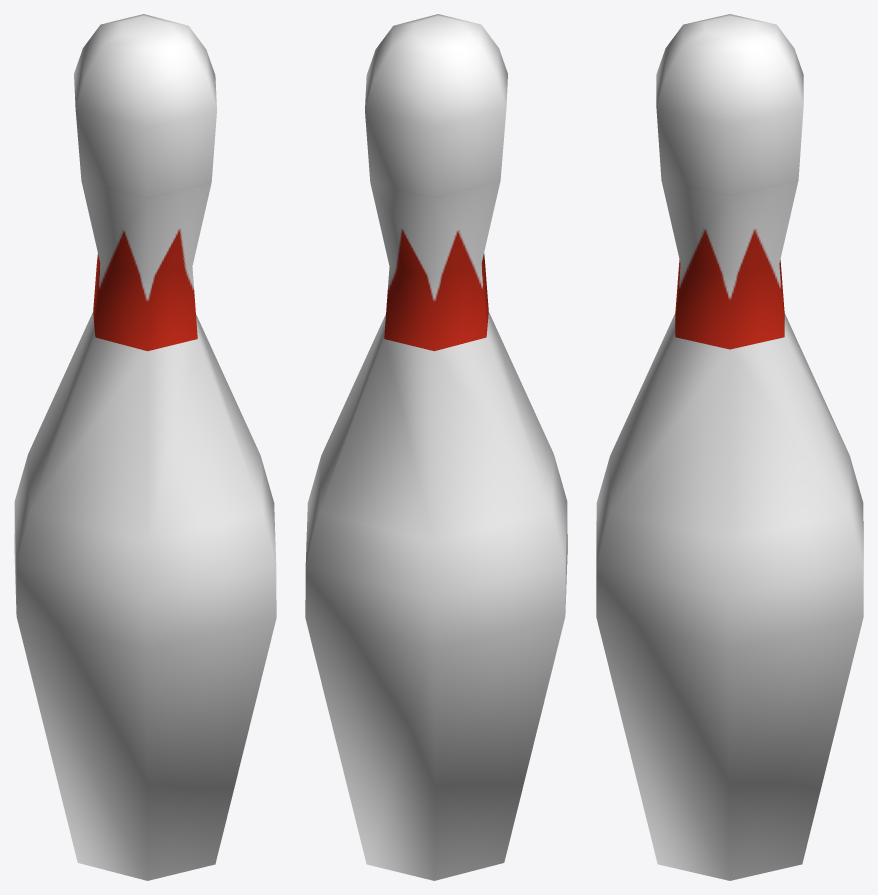
The model's file is Bowling_Pin.fbx.
3 views of the same model, side by side, from view 1: azimuth 30°, elevation 25°; view 2: azimuth 150°, elevation 25°; view 3: azimuth 270°, elevation 25° (orthographic).
Parts seen in each view (by area): view 1: Bowling_Pin; view 2: Bowling_Pin; view 3: Bowling_Pin.
Boxes of the visible parts, x1=… form: Bowling_Pin: x1=14, y1=14, x2=276, y2=880; Bowling_Pin: x1=305, y1=14, x2=567, y2=880; Bowling_Pin: x1=596, y1=14, x2=863, y2=880.
Size of the model in its own units: 134 by 406 by 120.
